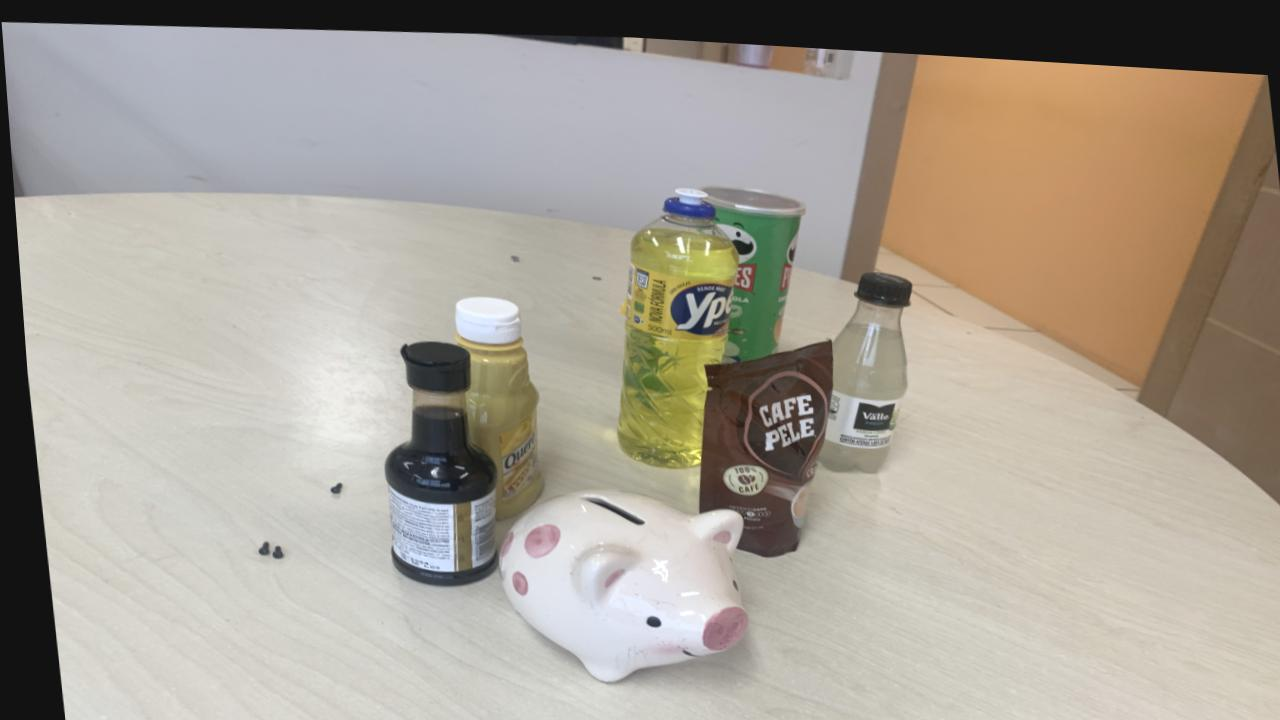Coffee-Pantry_Items: (691, 330, 829, 547)
Detergent-Cleanup_Items: (611, 180, 735, 459)
English_Sauce-Pantry_Items: (378, 336, 490, 580)
Mustard-Pantry_Items: (450, 292, 535, 514)
Pig_Safe-Miscellaneous: (490, 483, 739, 674)
Pringles-Snacks: (701, 177, 803, 353)
Soda-Drinks: (813, 261, 908, 462)
